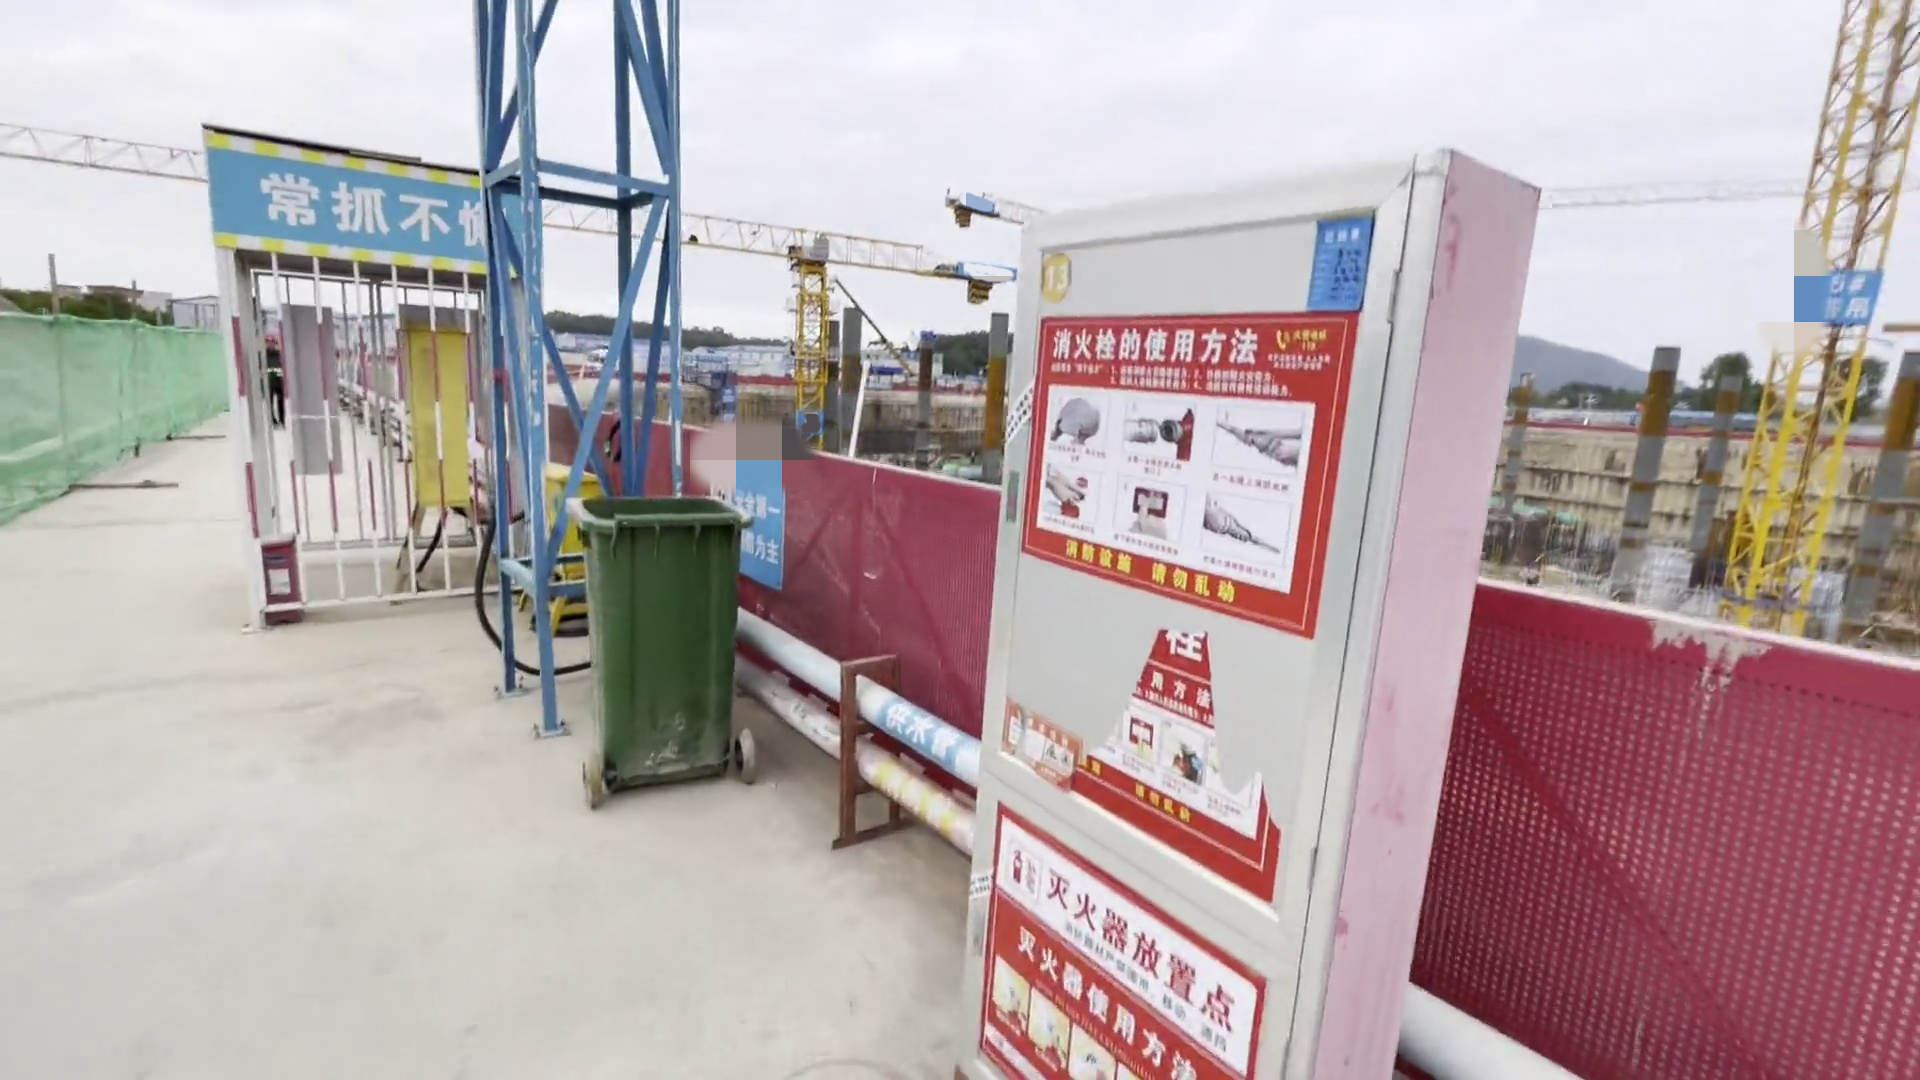ebox: (389, 322, 487, 549), (531, 469, 604, 593)
fence: (654, 396, 1904, 1063)
slogan: (976, 307, 1340, 1077), (215, 138, 510, 252)
